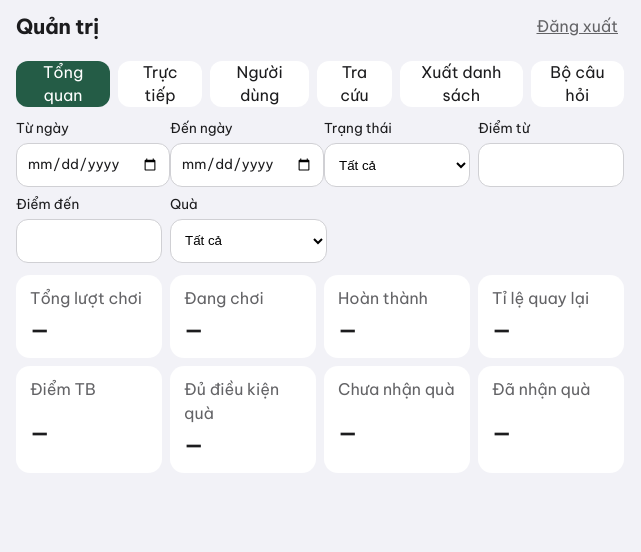
Scenario: unresolved reset survives navigation; account change clears it: false
Click the button "Người dùng" at x=260, y=84, box 210,61 -> 309,107
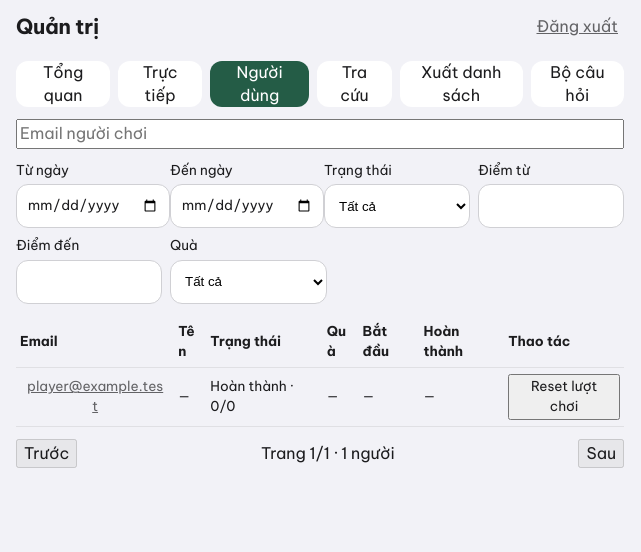
Click the button "Reset lượt chơi" at x=564, y=397, box 508,374 -> 620,420
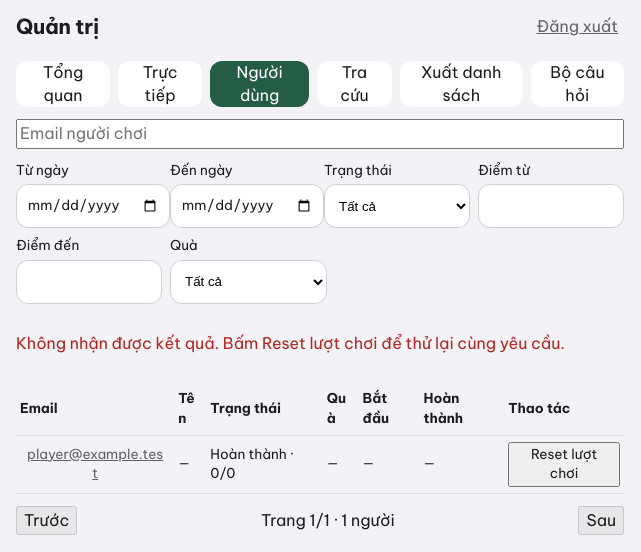
Now the message "Không nhận được kết quả. Bấm Reset lượt chơi để thử lại cùng yêu cầu." is shown, box 16,332 -> 624,355
Click the button "Tra cứu" at x=354, y=84, box 317,61 -> 392,107
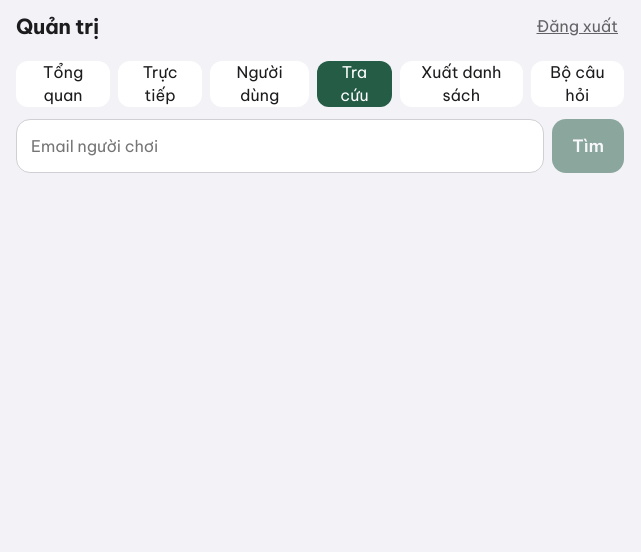
Click the button "Người dùng" at x=260, y=84, box 210,61 -> 309,107
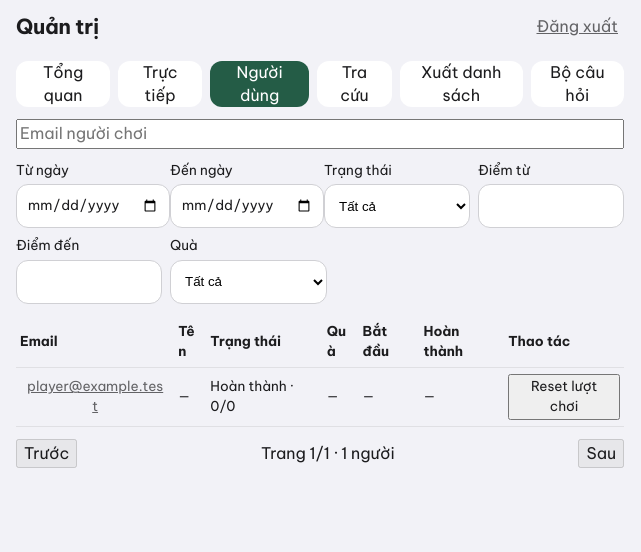
Click the button "Reset lượt chơi" at x=564, y=397, box 508,374 -> 620,420
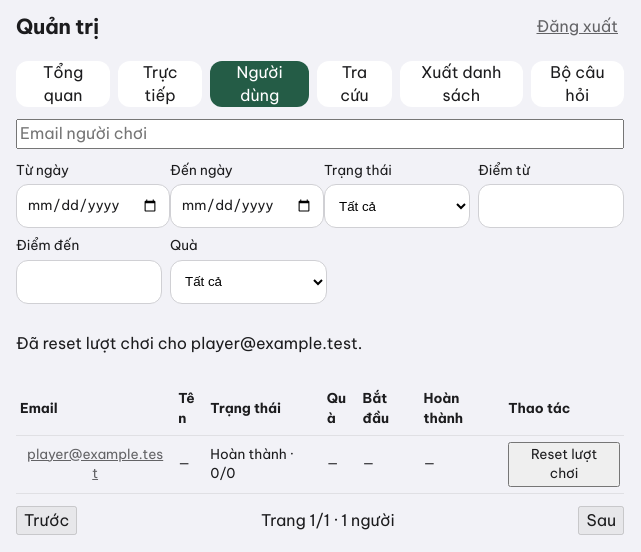
Now the text "Đã reset lượt chơi cho player@example.test." is shown, box 16,333 -> 362,353
